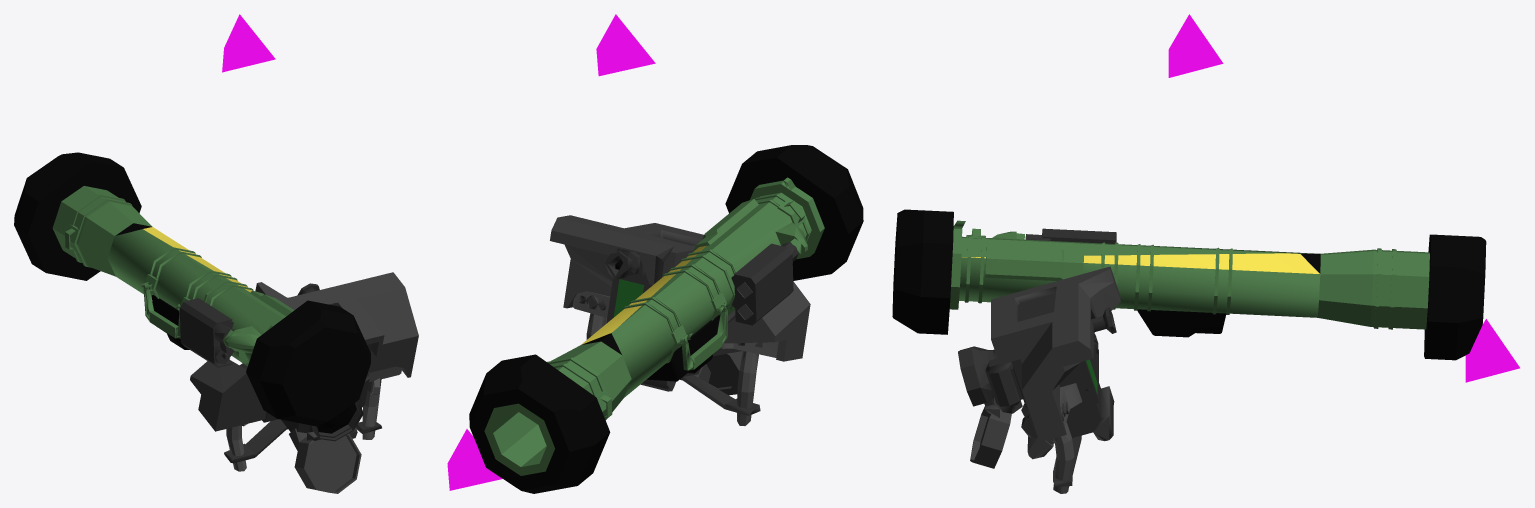
Rendered from prop_javelin.glb.
The picture shows the model from 3 angles, left to right: view 1: azimuth 30°, elevation 25°; view 2: azimuth 150°, elevation 25°; view 3: azimuth 270°, elevation 25°; orthographic projection. The views are drawn at different scales.
Visible parts, largest first — view 1: Body_7, Body_6, Body_2, Body_1, _Top, Body_4, Body_8, Body_9; view 2: Body_6, Body_7, Body_2, Body_1, Body_4, _Top, _Front, Body_8, Body_5; view 3: Body_6, Body_7, Body_2, Body_1, Body_8, _Top, _Front, Body_4.
Boxes of the visible parts, box(x1,y1,x2,y2) form: Body_7: box(14, 152, 370, 426); Body_6: box(52, 186, 294, 366); Body_2: box(190, 272, 418, 493); Body_1: box(179, 283, 381, 463); _Top: box(222, 14, 275, 72); Body_4: box(226, 366, 402, 471); Body_8: box(143, 227, 252, 292); Body_9: box(317, 403, 356, 433); Body_6: box(484, 177, 824, 475); Body_7: box(469, 145, 863, 493); Body_2: box(550, 215, 810, 395); Body_1: box(605, 241, 798, 415); Body_4: box(572, 282, 778, 425); _Top: box(596, 14, 655, 76); _Front: box(447, 429, 502, 490); Body_8: box(581, 246, 705, 344); Body_5: box(613, 279, 643, 317); Body_6: box(949, 220, 1429, 329); Body_7: box(892, 209, 1486, 360); Body_2: box(970, 266, 1120, 468); Body_1: box(958, 228, 1116, 486); Body_8: box(962, 253, 1319, 273); _Top: box(1168, 14, 1223, 77); _Front: box(1465, 319, 1519, 382); Body_4: box(1047, 241, 1116, 493).
Size of the model in its own units: 1.15 by 2.19 by 2.75.
Materials: 15 (14 with a texture image).
